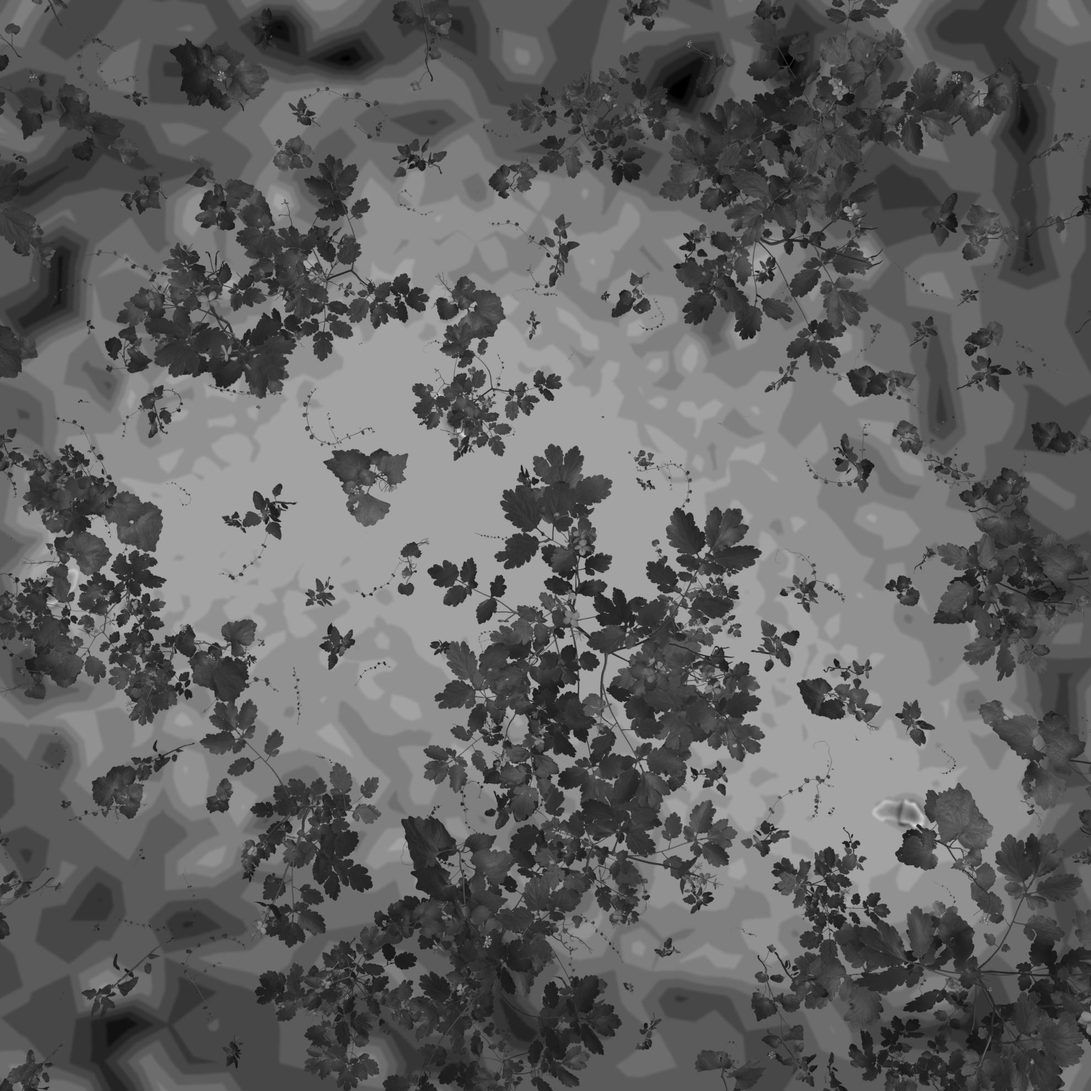landmine: (869, 791, 931, 834)
